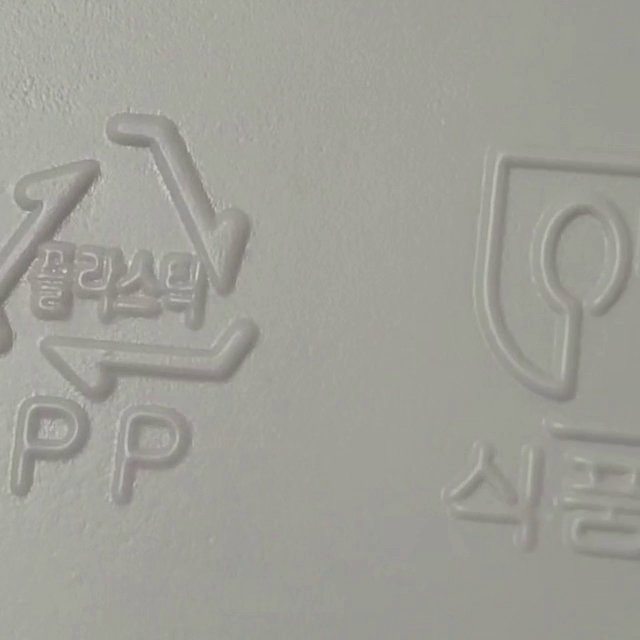Plastic: (0, 109, 259, 401)
